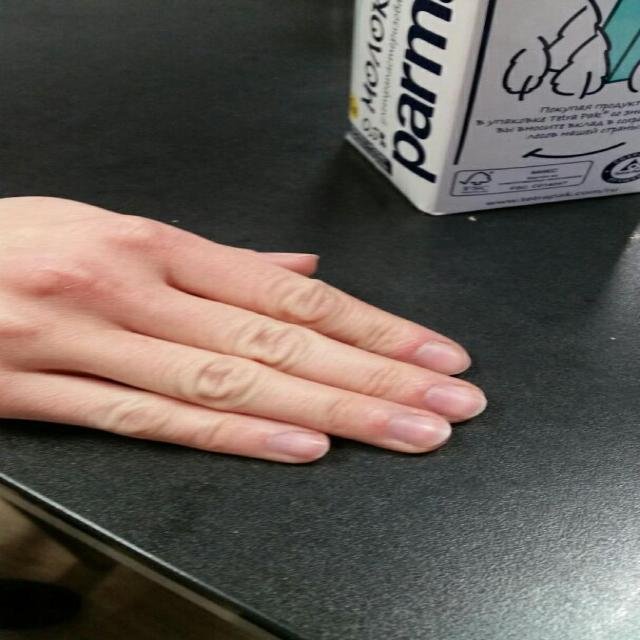Nail: (424, 386, 488, 419), (390, 414, 452, 447), (417, 342, 472, 375), (273, 431, 330, 459), (259, 252, 321, 259)
